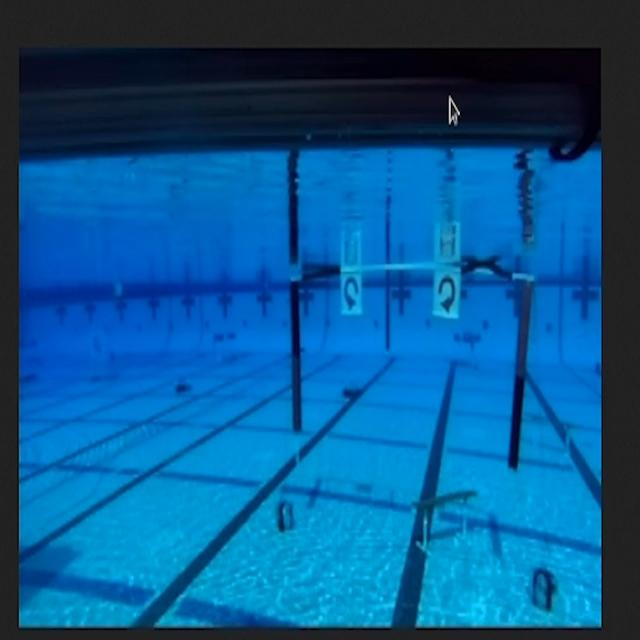Gate: (276, 254, 554, 478)
Path: (399, 478, 488, 560)
